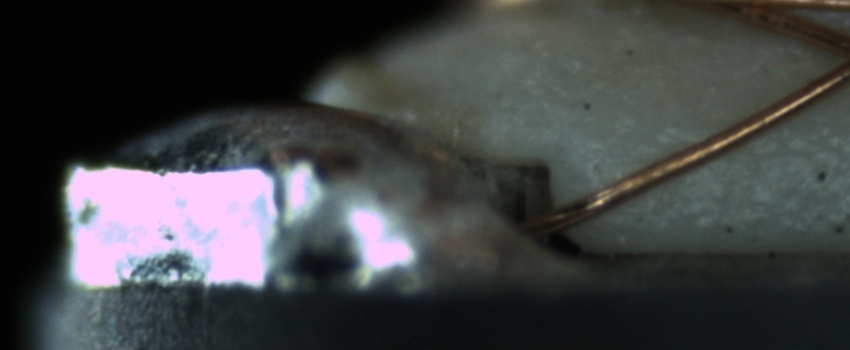CL: (828, 30, 850, 83)
DL: (635, 125, 849, 181)
